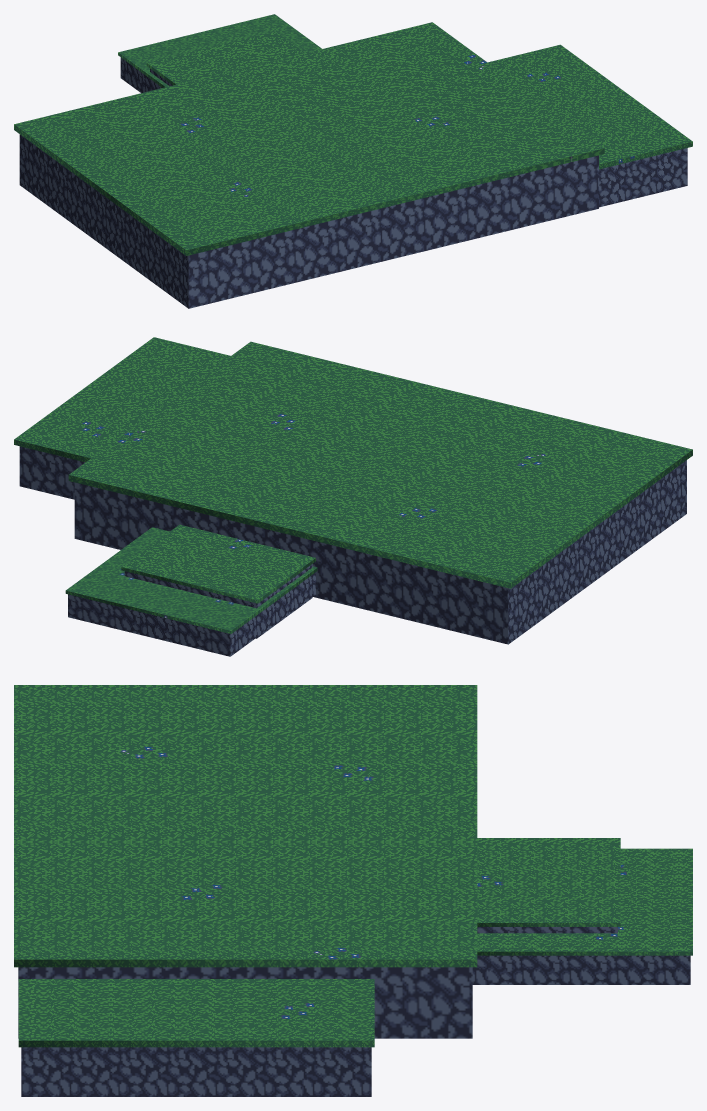
The model's file is EntradaErmos.fbx.
3 renders of one model, top to bottom at view 1: azimuth 30°, elevation 25°; view 2: azimuth 150°, elevation 25°; view 3: azimuth 270°, elevation 25°, orthographic. The views are drawn at different scales.
Parts seen in each view (by area): view 1: EntradaErmos; view 2: EntradaErmos; view 3: EntradaErmos.
Part boxes in pixels (x1,y1,x2,y2): EntradaErmos: [14, 14, 692, 308]; EntradaErmos: [14, 337, 692, 656]; EntradaErmos: [14, 685, 692, 1096].
Size of the model in its own units: 7743 by 6662 by 883.
